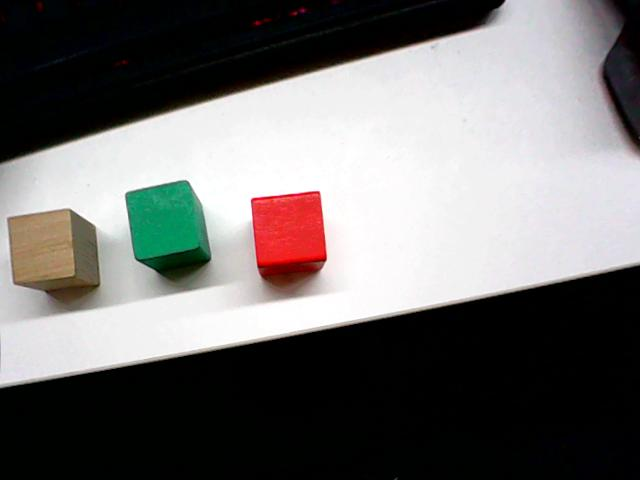green_box: (122, 176, 213, 275)
raw_box: (5, 206, 103, 295)
red_box: (247, 186, 330, 279)
